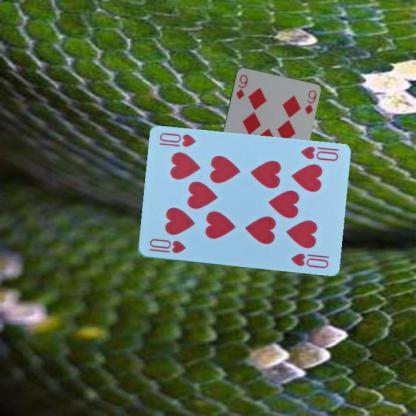10h: (146, 236, 187, 255), (298, 144, 339, 163)
9d: (233, 72, 249, 100)
